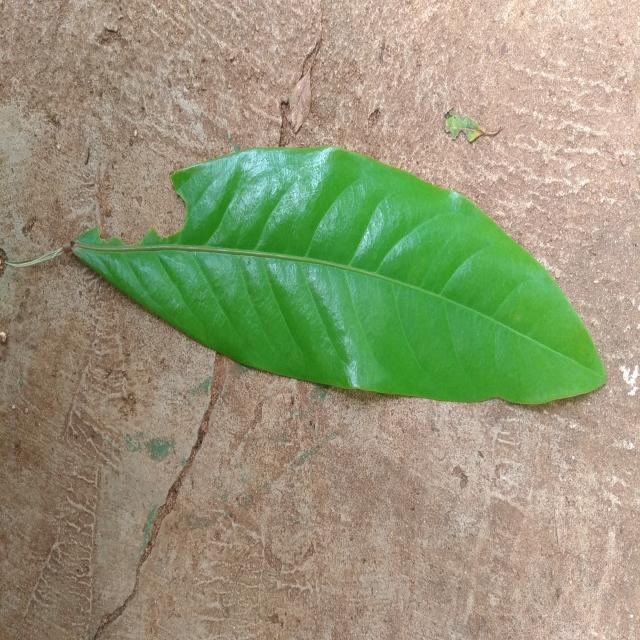seethaashoka: (74, 147, 605, 404)
